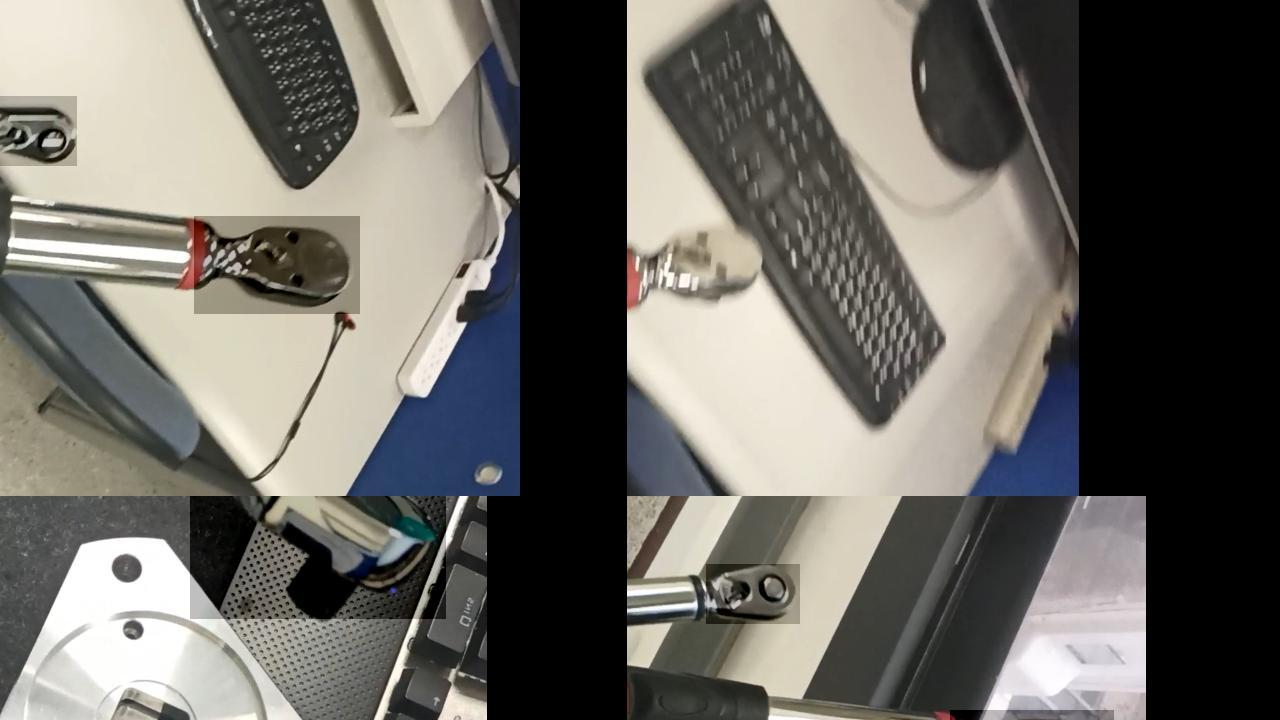Tool: (190, 496, 446, 618), (194, 215, 360, 313), (706, 563, 800, 623), (0, 95, 77, 165)
